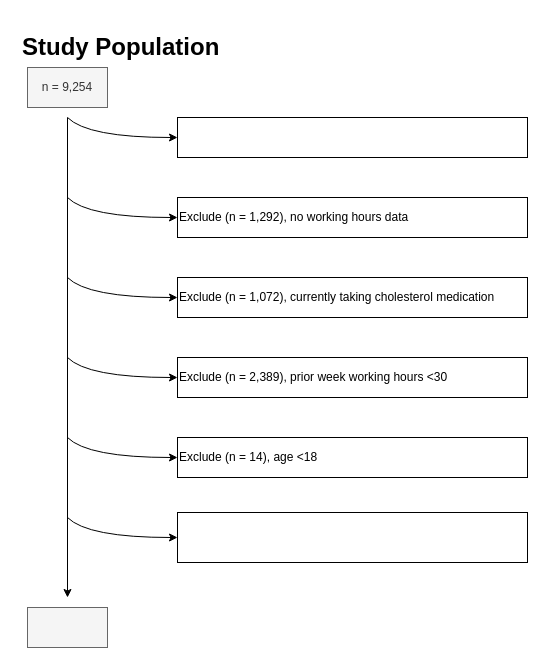
Some shapes in this 545 by 665 pixel diagram are drawn without their labels. Here are the shapes that lost their labels. From the top down, the centre of each, then its label:
the point at 352,137: Exclude (n = 2,516), no total blood cholesterol data
the point at 352,537: Exclude (n = 256), no BMI or income-to-poverty ratio data for final model
the point at 67,627: Final sample n = 1,715
